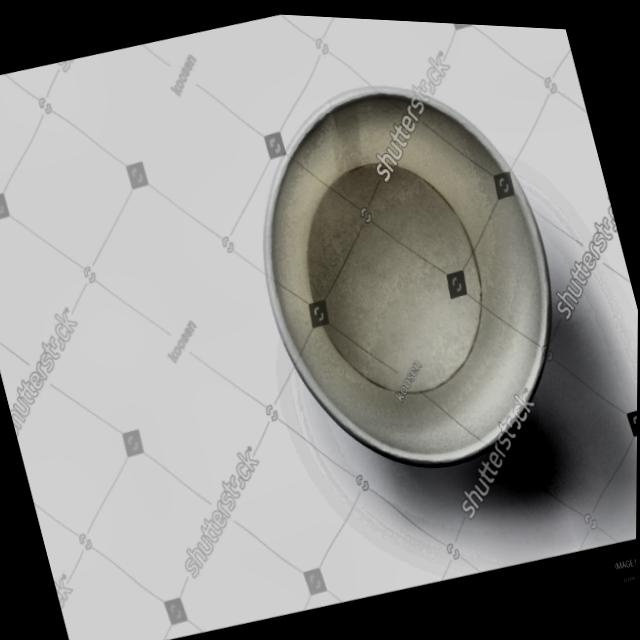Cup: (201, 23, 606, 522)
